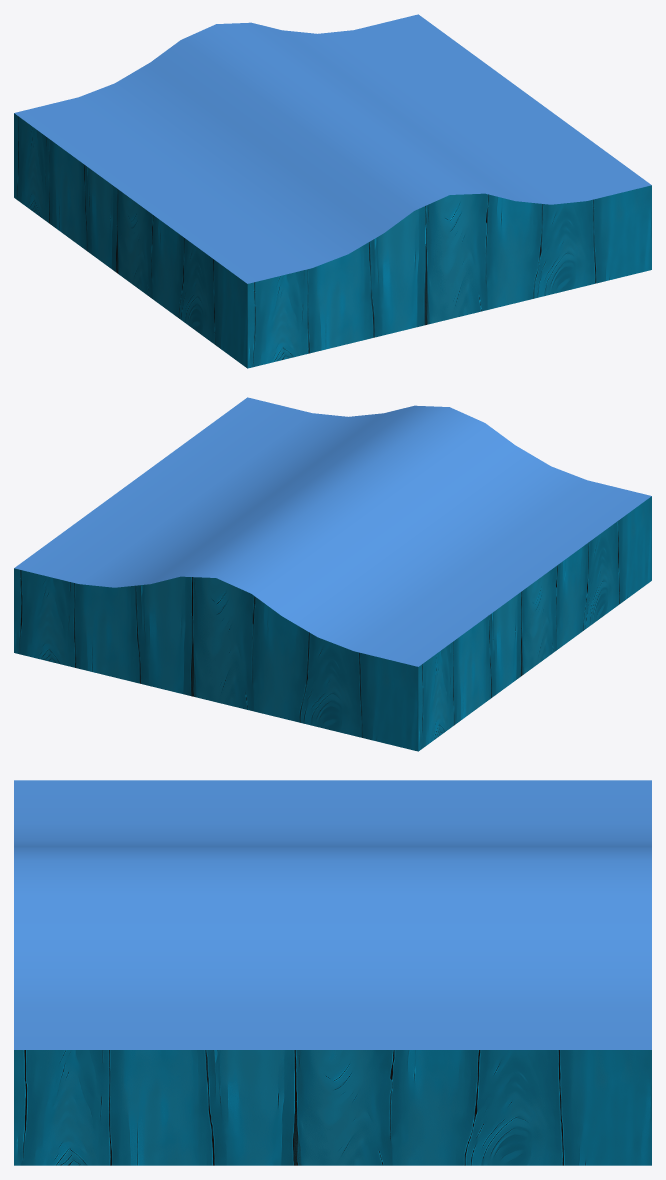
The model's file is M_Tile_Bump_1.fbx.
The picture shows the model from 3 angles, top to bottom: view 1: azimuth 30°, elevation 25°; view 2: azimuth 150°, elevation 25°; view 3: azimuth 270°, elevation 25°; orthographic projection. The views are drawn at different scales.
Parts seen in each view (by area): view 1: Base; view 2: Base; view 3: Base.
Boxes of the visible parts, x1,y1,x2,y2 form: Base: (14, 14, 651, 368); Base: (14, 397, 651, 751); Base: (14, 780, 651, 1165).
Size of the model in its own units: 100 by 29.35 by 100.
